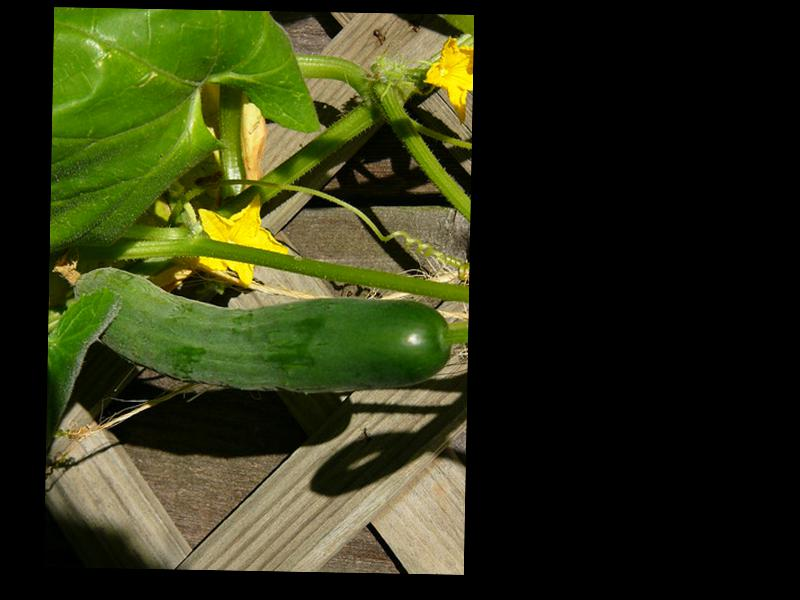Cucumber: (51, 266, 448, 396)
